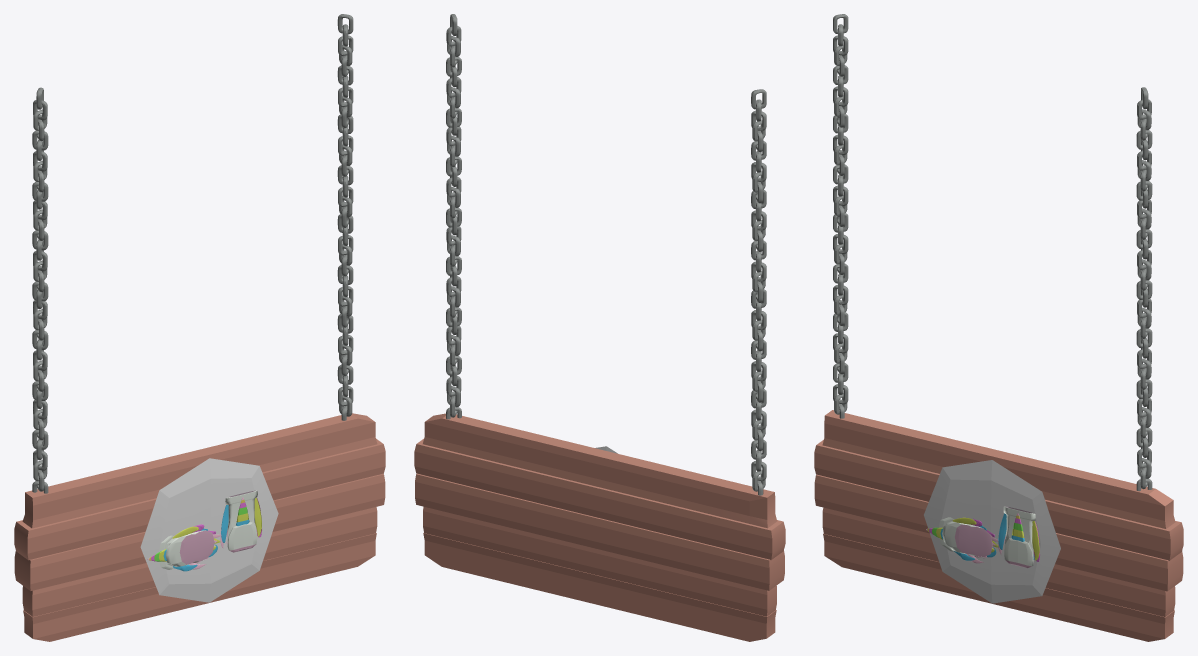
Rendered from PancarteLicore.fbx.
3 renders of one model, left to right at view 1: azimuth 30°, elevation 25°; view 2: azimuth 150°, elevation 25°; view 3: azimuth 330°, elevation 25°, orthographic.
Visible parts, largest first — view 1: Cube.012; view 2: Cube.012; view 3: Cube.012.
Boxes of the visible parts, x1=… form: Cube.012: x1=14, y1=14, x2=385, y2=641; Cube.012: x1=414, y1=14, x2=785, y2=641; Cube.012: x1=814, y1=14, x2=1183, y2=641.
Bounding box in the file's own units: 345 × 508 × 33.5.
